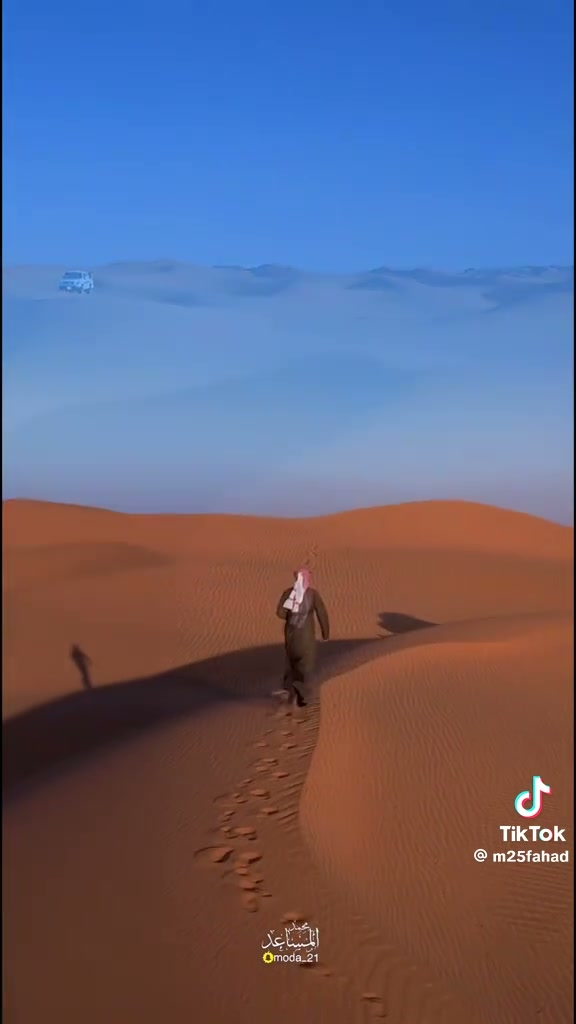human_footprint: (196, 716, 316, 912), (199, 709, 296, 911), (203, 729, 304, 912), (196, 742, 288, 911), (277, 568, 329, 706), (195, 825, 271, 911), (281, 910, 336, 978), (194, 846, 234, 865), (249, 787, 269, 798)
